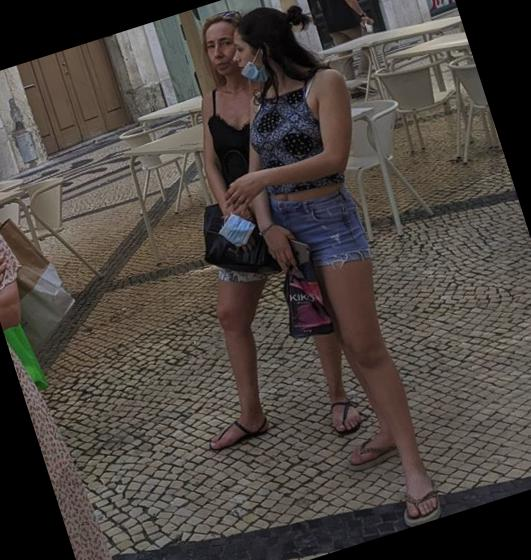mask_weared_incorrect: (230, 36, 265, 84)
without_mask: (196, 30, 240, 78)
